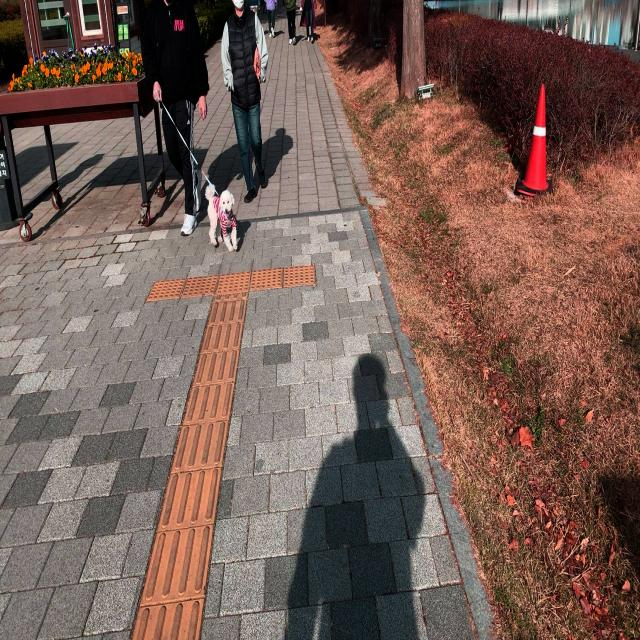Leashed_Dog: (178, 126, 241, 254)
